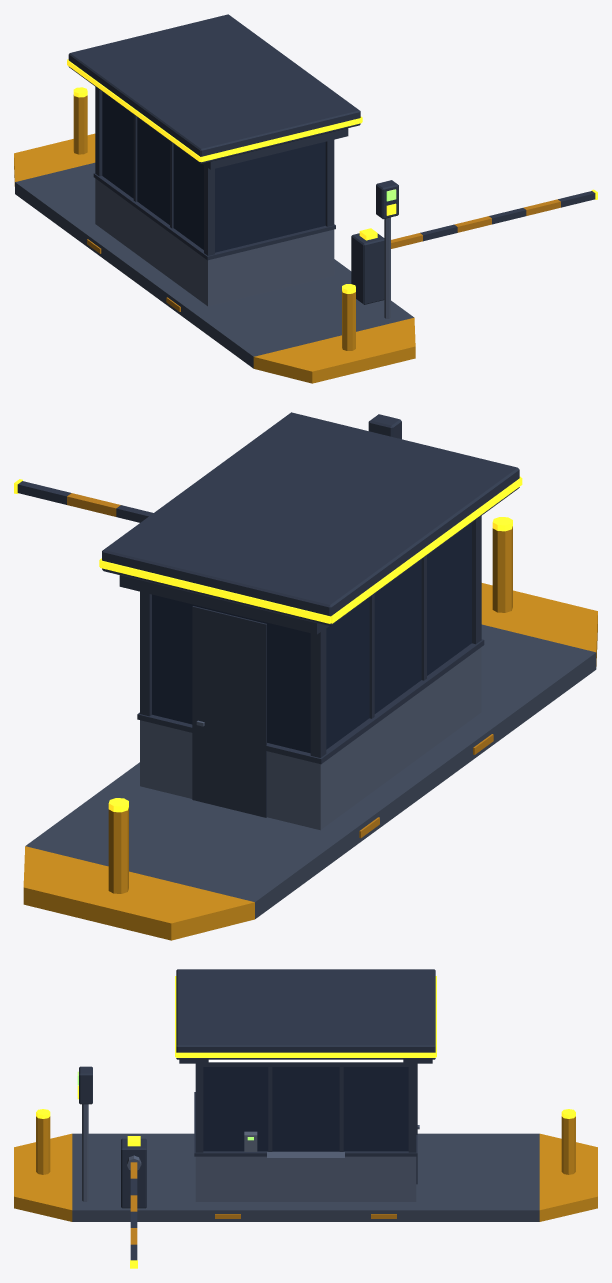
Rendered from hw_toll_booth.glb.
3 renders of one model, top to bottom at view 1: azimuth 30°, elevation 25°; view 2: azimuth 150°, elevation 25°; view 3: azimuth 270°, elevation 25°, orthographic. The views are drawn at different scales.
Parts seen in each view (by area): view 1: frame, booth_glass, island, booth_base, island_nose, amber_light, arm; view 2: frame, island, booth_glass, island_nose, booth_base, amber_light, arm; view 3: frame, island, booth_glass, booth_base, island_nose, amber_light, window_light, arm.
Boxes of the visible parts, box(x1,y1,x2,y2) form: frame: box(68, 14, 595, 304); booth_glass: box(102, 92, 325, 252); island: box(15, 162, 413, 368); booth_base: box(95, 178, 390, 318); island_nose: box(14, 95, 415, 383); amber_light: box(67, 59, 597, 293); arm: box(87, 199, 560, 311); frame: box(17, 412, 519, 817); island: box(25, 624, 596, 918); booth_glass: box(152, 523, 471, 753); island_nose: box(23, 526, 597, 940); booth_base: box(140, 647, 481, 830); amber_light: box(14, 476, 522, 812); arm: box(67, 493, 493, 838); frame: box(79, 969, 435, 1260); island: box(72, 1133, 539, 1221); booth_glass: box(203, 1067, 408, 1151); booth_base: box(82, 1104, 419, 1201); island_nose: box(14, 1116, 597, 1221); amber_light: box(36, 976, 575, 1268); window_light: box(208, 1059, 403, 1062); arm: box(130, 1162, 396, 1244).
Bounding box in the file's own units: 6.53 × 3 × 9.
